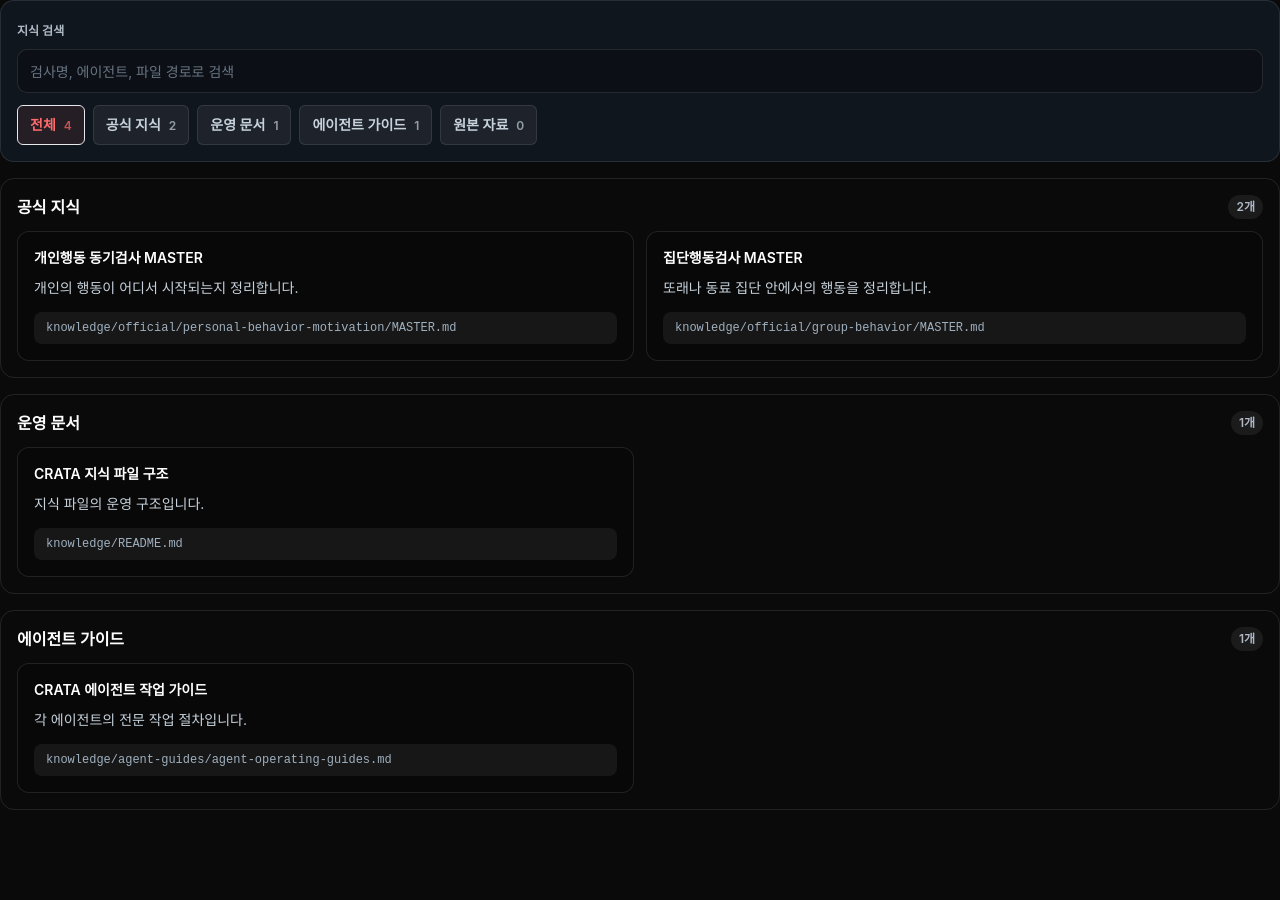
MemoryBrowser › filters knowledge entries by search text and kind
The width and height of the screenshot is (1280, 900).
Expected: the text "개인행동 동기검사 MASTER" is shown, [34,249,203,266]
Expected: the text "집단행동검사 MASTER" is shown, [663,249,803,266]
Type "집단" into the field labelled "지식 검색" at (640, 71), box [17,49,1263,93]
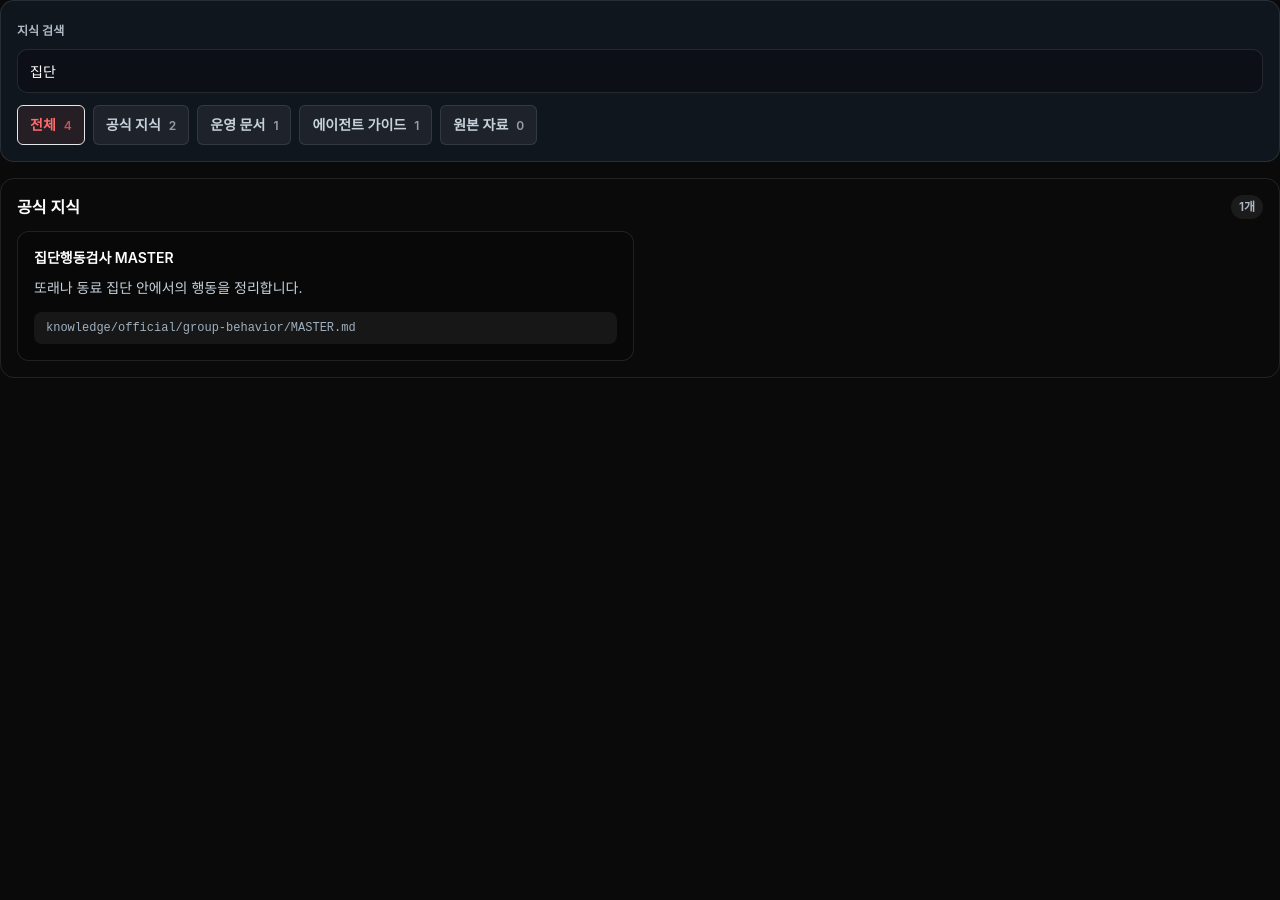
Expected: the text "집단행동검사 MASTER" is shown, [34,249,174,266]
Result: the text "개인행동 동기검사 MASTER" is gone
Clear the field labelled "지식 검색" at (640, 71), box [17,49,1263,93]
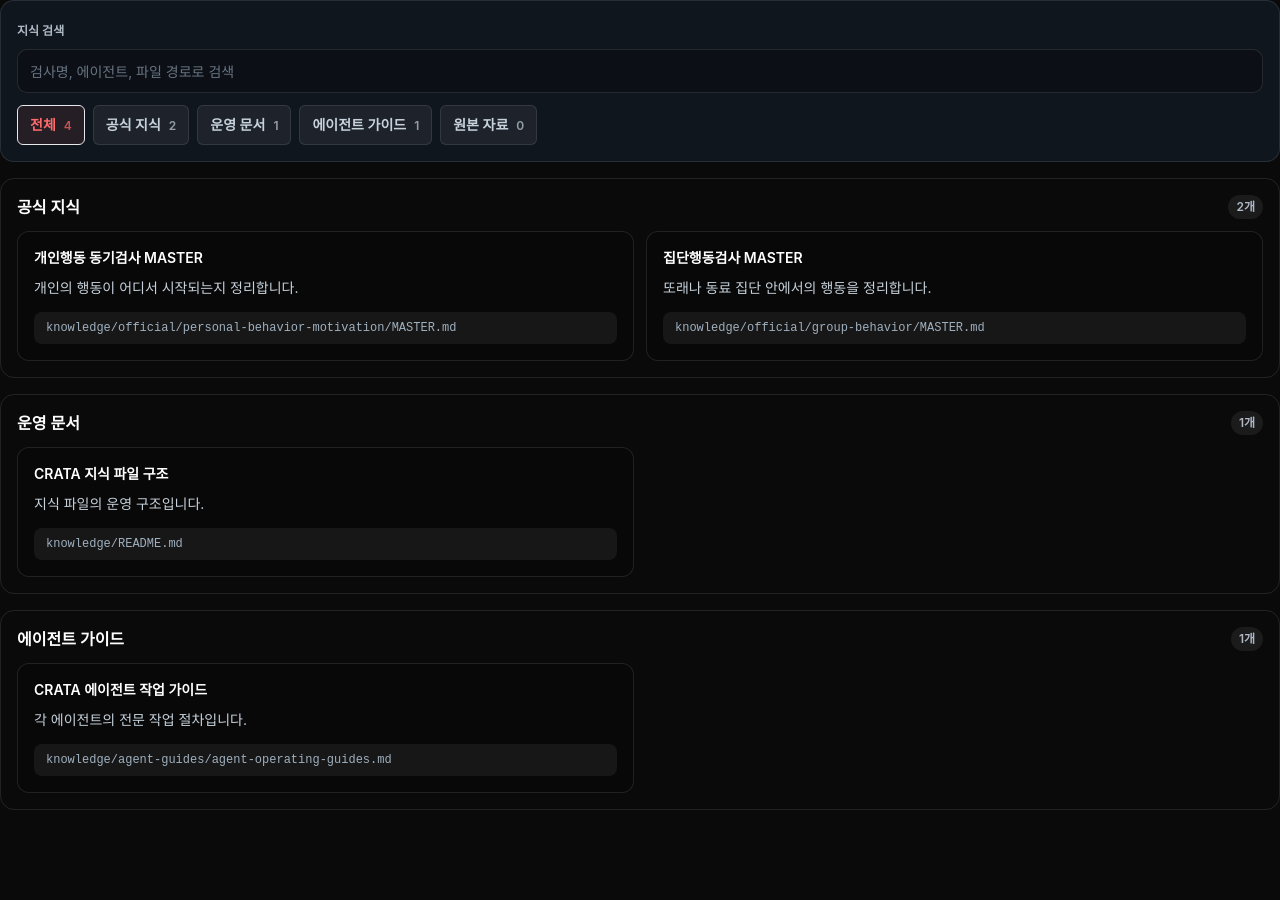
Click the button "에이전트 가이드1" at (366, 125), box [300,105,432,145]
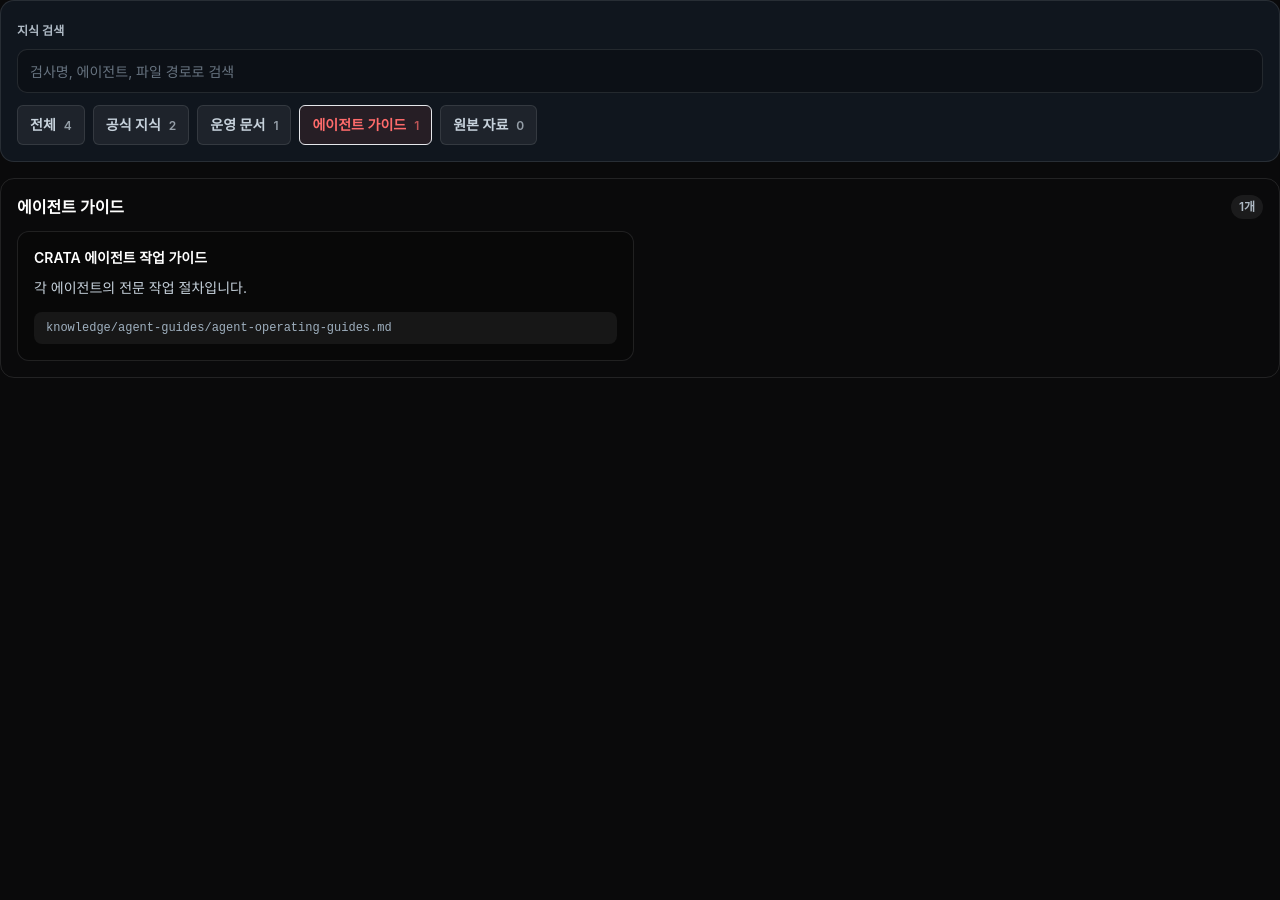
Result: the text "CRATA 에이전트 작업 가이드" is shown at [34,249,207,266]
Result: the text "집단행동검사 MASTER" is gone
Click the button "운영 문서1" at (244, 125), box [197,105,291,145]
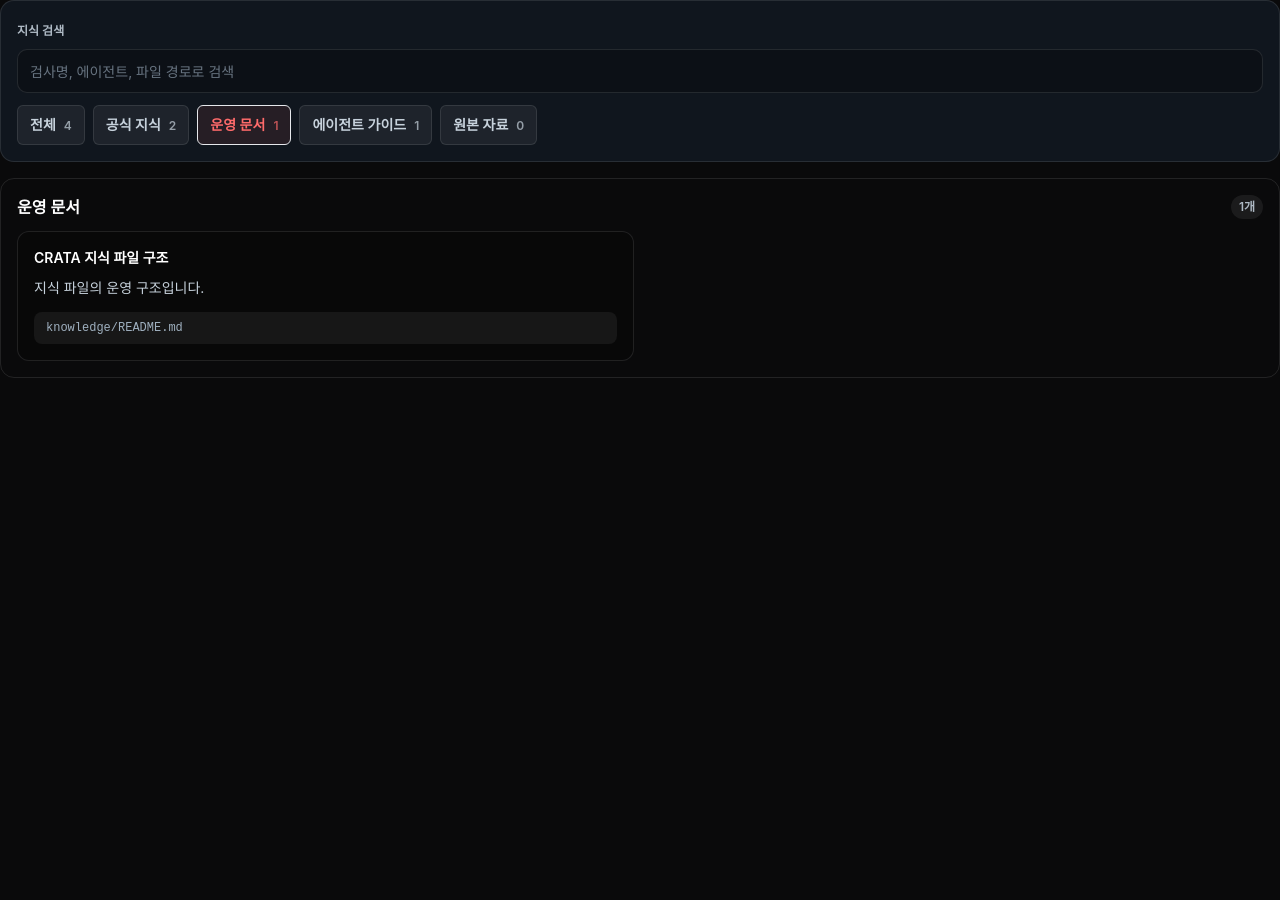
Result: the text "CRATA 에이전트 작업 가이드" is gone
Result: the text "CRATA 지식 파일 구조" is shown at [34,249,168,266]
